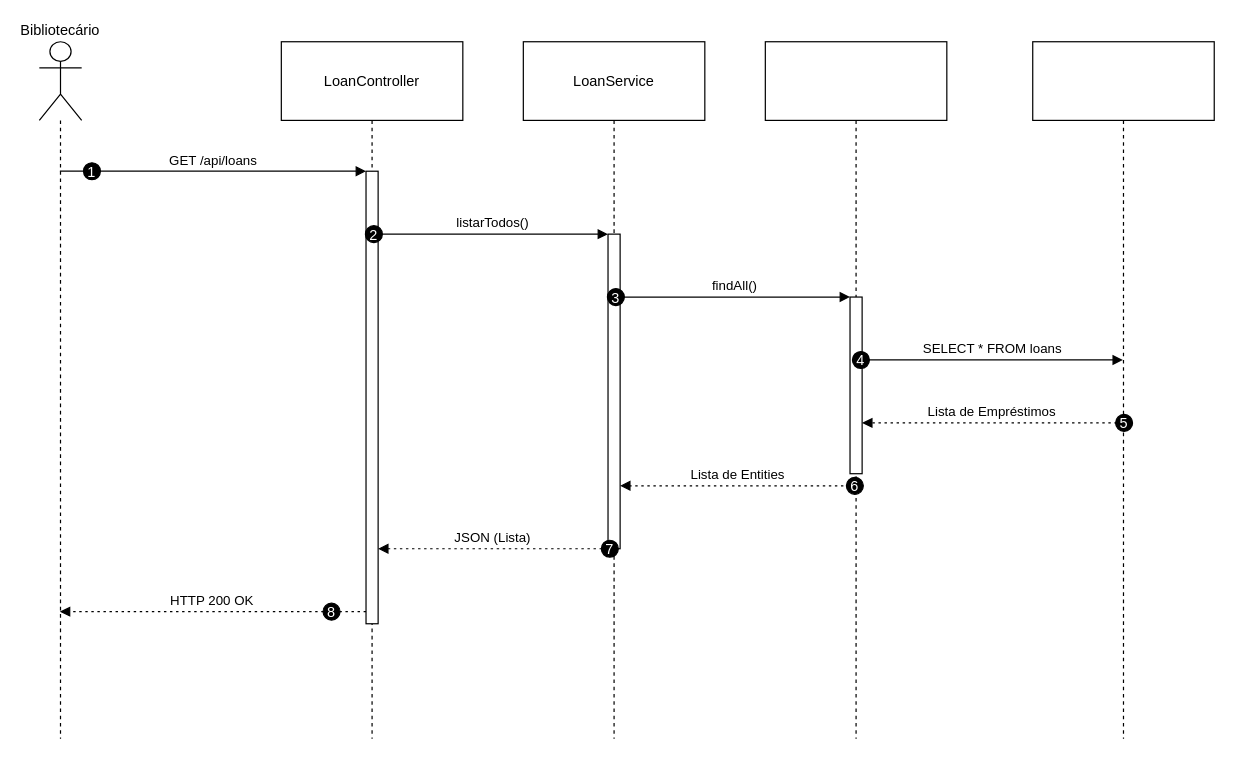
Image size: 1235x760. Some labels were removed from this diagram. The shapes that lost their labels are listed below. From the top down, each one's box as (x1, y1, x2, y2) in pixels, then its label:
(764, 41, 947, 739): LoanRepository
(1032, 41, 1214, 739): Banco de Dados
